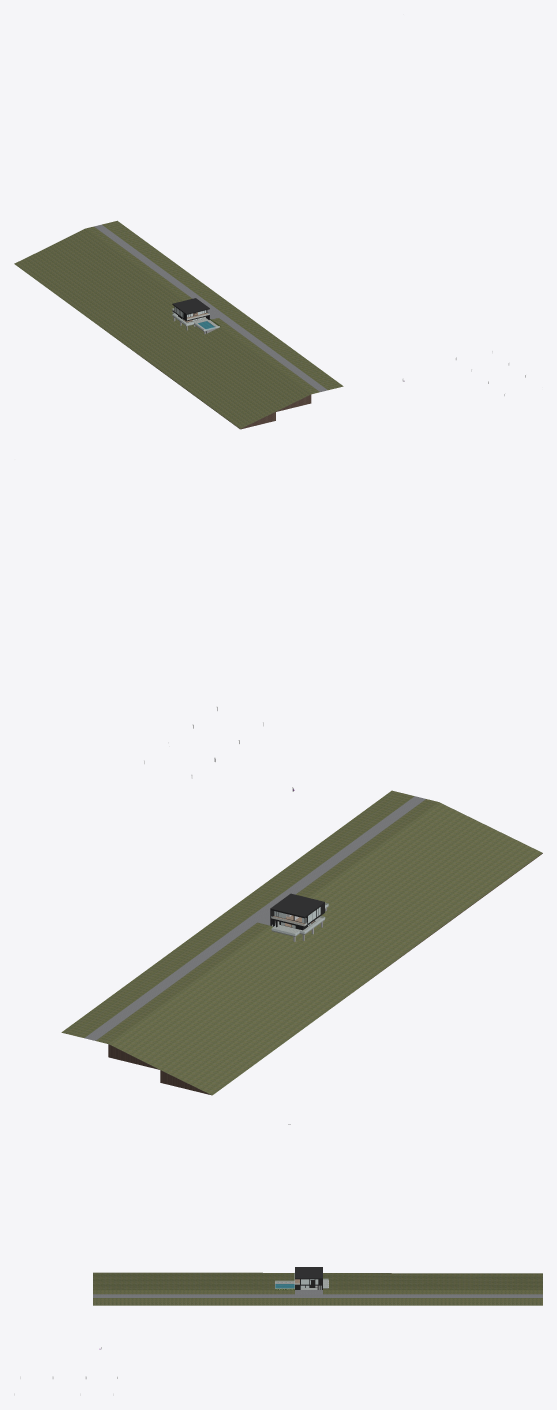
3 views of the same model, one above another, from view 1: azimuth 30°, elevation 25°; view 2: azimuth 150°, elevation 25°; view 3: azimuth 270°, elevation 25° (orthographic). The views are drawn at different scales.
Visible parts, largest first — view 1: Slab_-_003.005, Mesh_-_001.003, Mesh_-_001.004, Mesh_-_001.005, Mesh_-_001.001, Mesh_-_001.002, Mesh_-_001, Slab_-_003.002, Slab_-_003.003, Slab_-_003.004; view 2: Slab_-_003.005, Mesh_-_001.002, Mesh_-_001.001, Mesh_-_001.005, Mesh_-_001.003, Mesh_-_001.004, Mesh_-_001, Slab_-_003.002, Slab_-_003.004, Slab_-_003.003, Slab_-_002.010; view 3: Slab_-_003.005, Slab_-_003.002, Mesh_-_001.003, Mesh_-_001.001, Mesh_-_001.002, Mesh_-_001.004, Slab_-_003.004, Mesh_-_001.005, Slab_-_003.003, Mesh_-_001, Slab_-_002.010.
Boxes of the visible parts, x1,y1,x2,y2 form: Slab_-_003.005: [102, 220, 343, 390]; Mesh_-_001.003: [165, 356, 275, 429]; Mesh_-_001.004: [200, 339, 311, 411]; Mesh_-_001.005: [90, 301, 199, 373]; Mesh_-_001.001: [14, 246, 124, 318]; Mesh_-_001.002: [50, 229, 160, 300]; Mesh_-_001: [125, 284, 235, 356]; Slab_-_003.002: [94, 224, 327, 391]; Slab_-_003.003: [211, 318, 319, 394]; Slab_-_003.004: [85, 226, 192, 300]; Slab_-_003.005: [61, 790, 414, 1037]; Mesh_-_001.002: [108, 963, 270, 1069]; Mesh_-_001.001: [160, 989, 322, 1095]; Mesh_-_001.005: [271, 908, 432, 1014]; Mesh_-_001.003: [381, 827, 542, 933]; Mesh_-_001.004: [329, 802, 490, 907]; Mesh_-_001: [219, 883, 380, 988]; Slab_-_003.002: [84, 796, 425, 1040]; Slab_-_003.004: [96, 922, 269, 1043]; Slab_-_003.003: [296, 799, 438, 897]; Slab_-_002.010: [270, 893, 324, 918]; Slab_-_003.005: [93, 1298, 542, 1305]; Slab_-_003.002: [93, 1290, 542, 1297]; Mesh_-_001.003: [93, 1272, 242, 1281]; Mesh_-_001.001: [393, 1273, 542, 1281]; Mesh_-_001.002: [393, 1281, 542, 1289]; Mesh_-_001.004: [93, 1281, 242, 1289]; Slab_-_003.004: [323, 1290, 542, 1294]; Mesh_-_001.005: [243, 1272, 392, 1281]; Slab_-_003.003: [93, 1290, 294, 1294]; Mesh_-_001: [243, 1281, 392, 1289]; Slab_-_002.010: [295, 1267, 322, 1279].
Bounding box in the file's own units: 229 × 231 × 400.
Materials: 33 (20 with a texture image).
